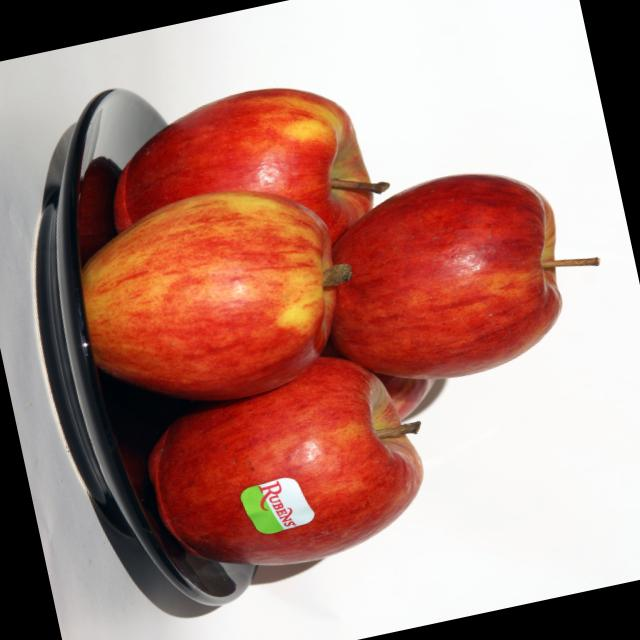alpple: (54, 173, 370, 429), (304, 151, 582, 411), (136, 350, 432, 589), (89, 66, 390, 285)
